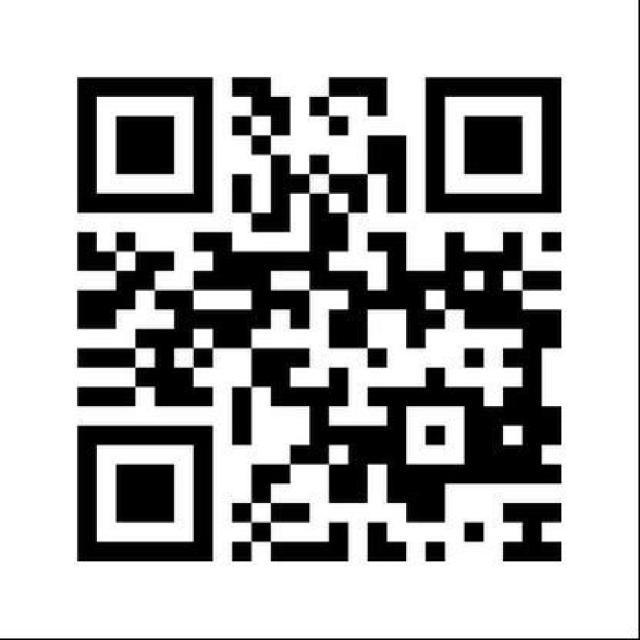QRCode: (63, 57, 581, 574)
